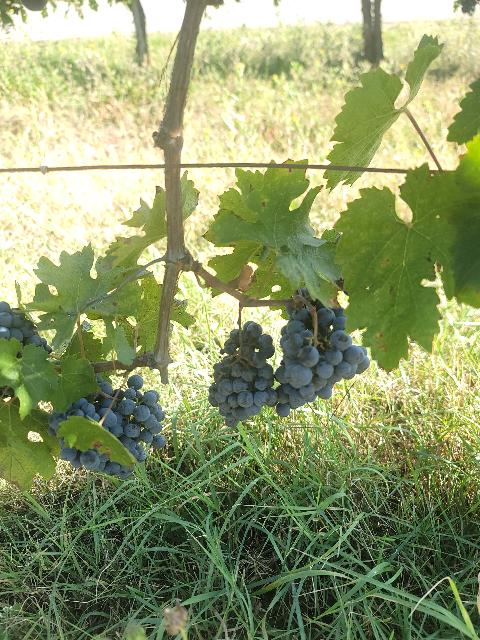grapes: (274, 308, 369, 418), (48, 375, 166, 461), (209, 321, 278, 428)
